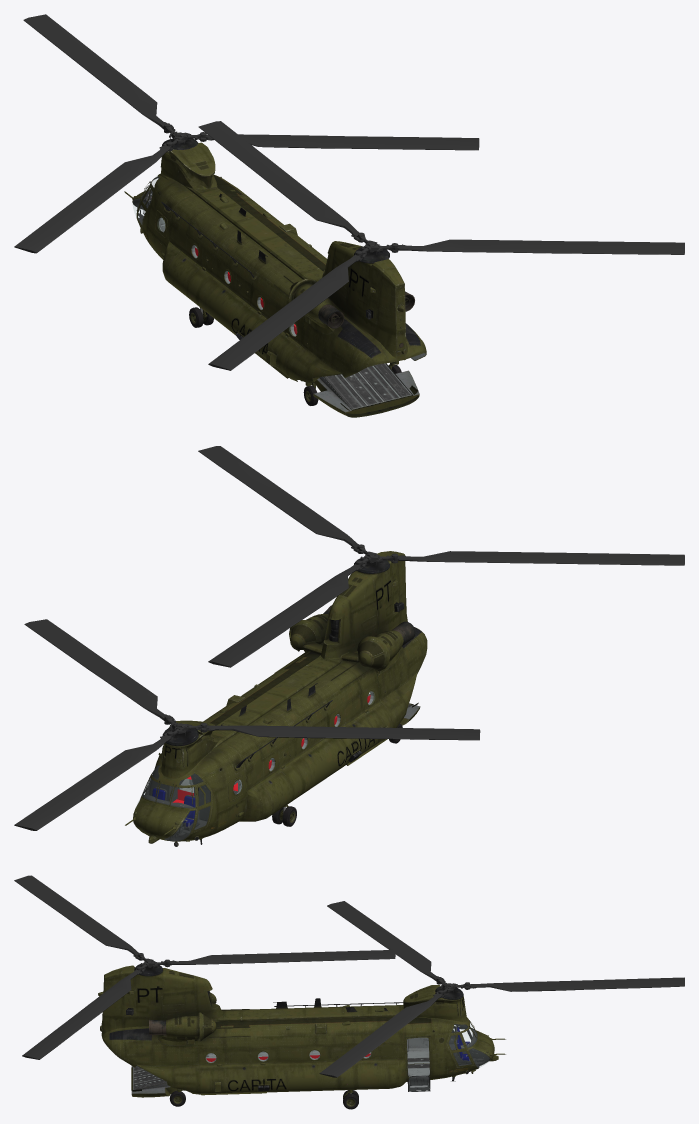
File: Helicopter1.glb
The picture shows the model from 3 angles, top to bottom: view 1: azimuth 30°, elevation 25°; view 2: azimuth 150°, elevation 25°; view 3: azimuth 270°, elevation 25°; orthographic projection. The views are drawn at different scales.
Parts seen in each view (by area): view 1: body_2, blades_rear_1, blades_front_0, Ramp_10, inside_4; view 2: body_2, blades_rear_1, blades_front_0, inside_4; view 3: body_2, blades_rear_1, blades_front_0, inside_4, Ramp_10.
Boxes of the visible parts, x1,y1,x2,y2 form: body_2: (124,138,426,417); blades_rear_1: (198,121,684,370); blades_front_0: (14,14,479,253); Ramp_10: (324,363,411,409); inside_4: (132,176,425,360); body_2: (125,551,427,846); blades_rear_1: (198,446,684,667); blades_front_0: (14,619,480,830); inside_4: (140,691,373,841); body_2: (98,963,505,1109); blades_rear_1: (14,875,395,1059); blades_front_0: (319,901,684,1077); inside_4: (205,1024,490,1091); Ramp_10: (133,1066,166,1089).
Size of the model in its own units: 146 by 50.1 by 224.
7 materials, 3 textured.
